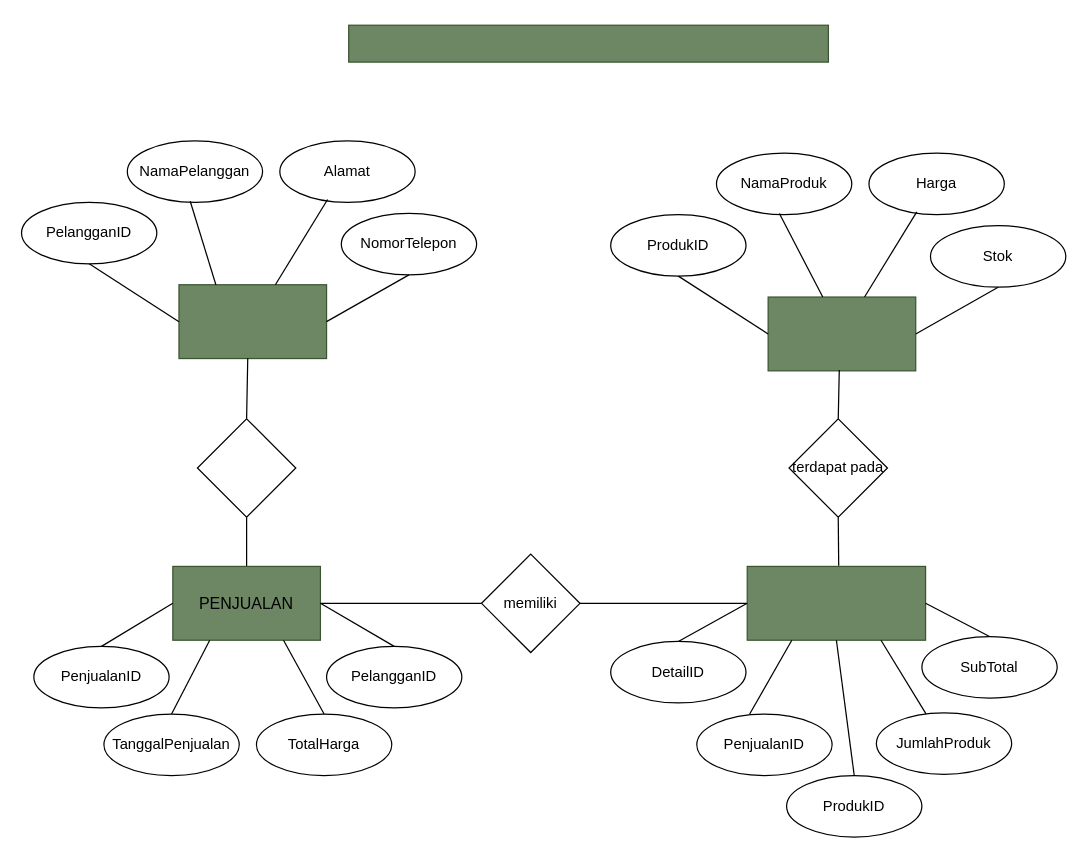
The diagram is 1087 pixels wide and 859 high, and some of its shapes have lost their labels. Here are the shapes that lost their labels. From the top down, the centre of each, then its label:
At point 587,43: "ERD SISTEM PENJUALAN".
At point 252,321: "PELANGGAN".
At point 841,333: "PRODUK".
At point 246,467: "melakukan".
At point 836,602: "DETAIL_PENJUALAN".
